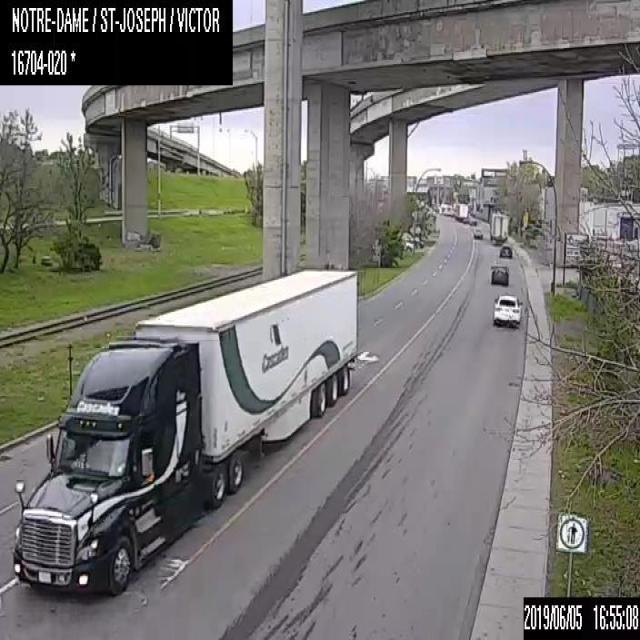vehicle: (12, 269, 356, 596), (492, 294, 522, 326), (489, 212, 507, 244), (489, 264, 508, 286), (453, 202, 467, 220), (407, 235, 424, 248), (499, 245, 511, 256), (403, 238, 412, 252), (440, 204, 451, 215), (473, 228, 482, 238), (469, 218, 477, 226)
